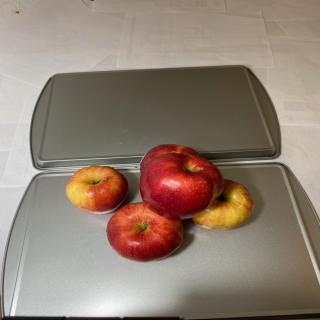Apple: (139, 152, 224, 220), (106, 202, 184, 263), (192, 179, 254, 230), (65, 165, 128, 214), (140, 144, 202, 174)
